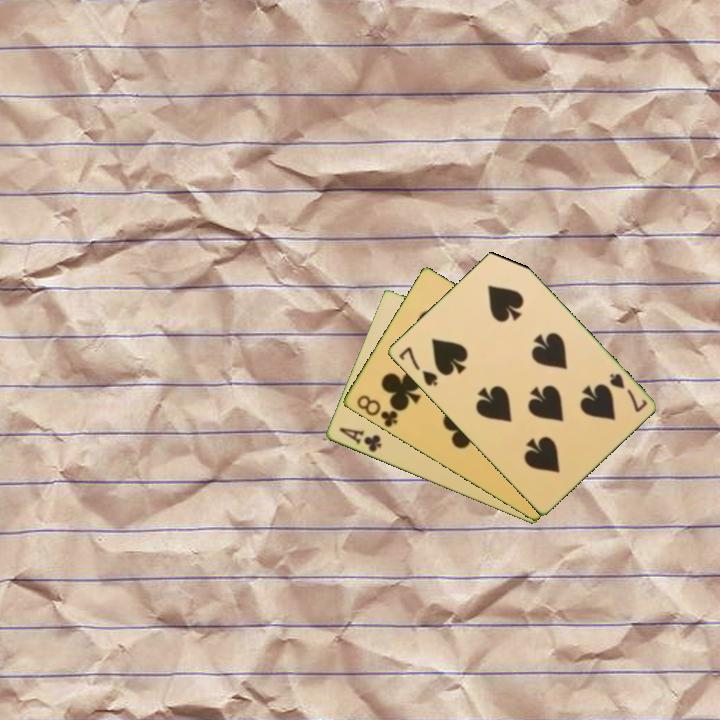7s: (395, 343, 440, 389), (605, 369, 650, 415)
8c: (353, 391, 400, 431)
Ac: (335, 424, 384, 455)
